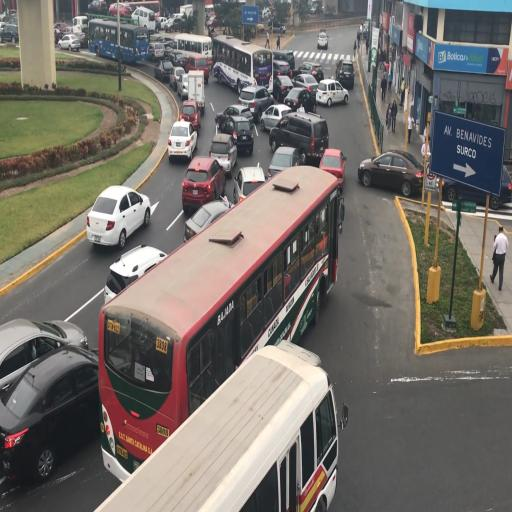auto: (1, 341, 101, 484), (85, 182, 151, 248), (103, 243, 168, 306), (438, 161, 510, 209), (358, 148, 424, 195), (182, 156, 226, 213), (184, 198, 234, 242), (209, 132, 241, 176), (237, 85, 273, 123), (267, 144, 302, 182), (167, 119, 197, 163), (234, 164, 267, 202), (318, 147, 346, 190), (259, 103, 294, 134), (226, 114, 253, 154), (218, 101, 254, 131), (318, 78, 348, 107), (271, 74, 296, 106), (178, 97, 200, 132), (290, 87, 318, 114), (293, 73, 319, 101), (335, 57, 355, 89), (295, 62, 322, 84), (154, 59, 174, 83), (53, 22, 72, 46), (57, 33, 80, 51), (0, 22, 17, 44), (177, 71, 189, 98), (169, 12, 187, 30), (318, 31, 328, 49), (158, 17, 169, 30)
bus: (187, 69, 205, 117), (272, 48, 295, 80)
moto: (102, 171, 334, 483), (269, 109, 326, 165), (213, 35, 265, 94), (89, 17, 148, 64), (169, 32, 212, 82), (124, 0, 161, 19), (72, 15, 90, 44), (178, 3, 196, 23)
